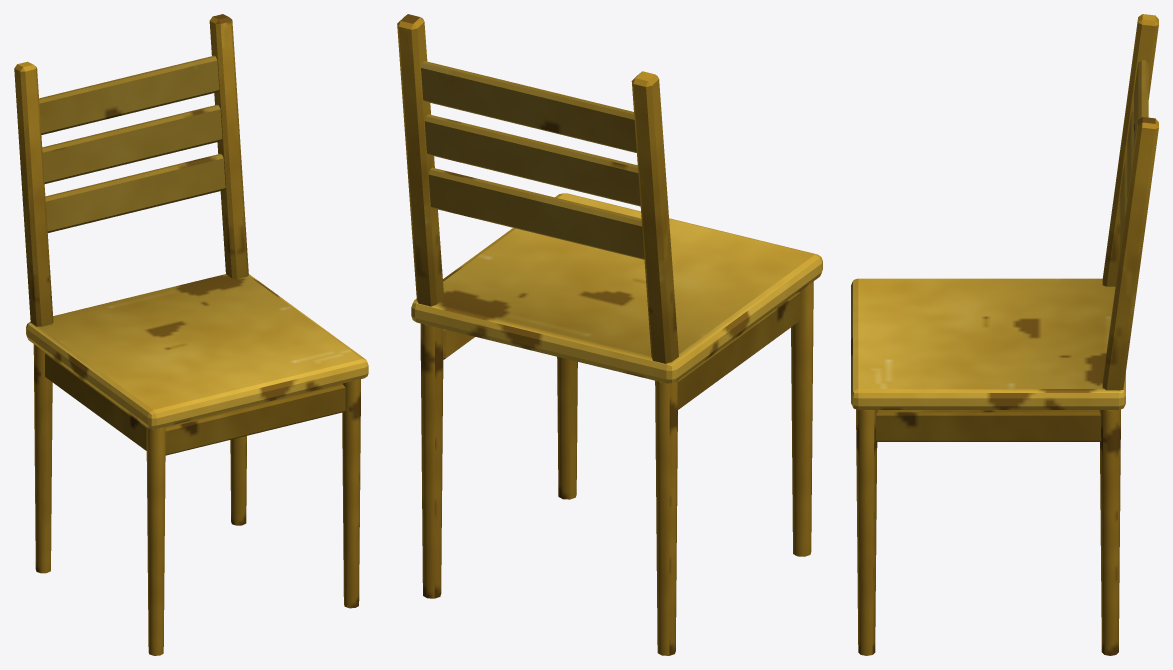
Rendered from chair_bar.glb.
3 renders of one model, left to right at view 1: azimuth 30°, elevation 25°; view 2: azimuth 150°, elevation 25°; view 3: azimuth 270°, elevation 25°, orthographic. The views are drawn at different scales.
Parts seen in each view (by area): view 1: chair_bar; view 2: chair_bar; view 3: chair_bar.
Part boxes in pixels (x1,y1,x2,y2): chair_bar: (14,14,368,655); chair_bar: (397,14,822,655); chair_bar: (851,14,1158,655).
Bounding box in the file's own units: 0.42 × 0.8976 × 0.4703.
Materials: 2 (2 with a texture image).
